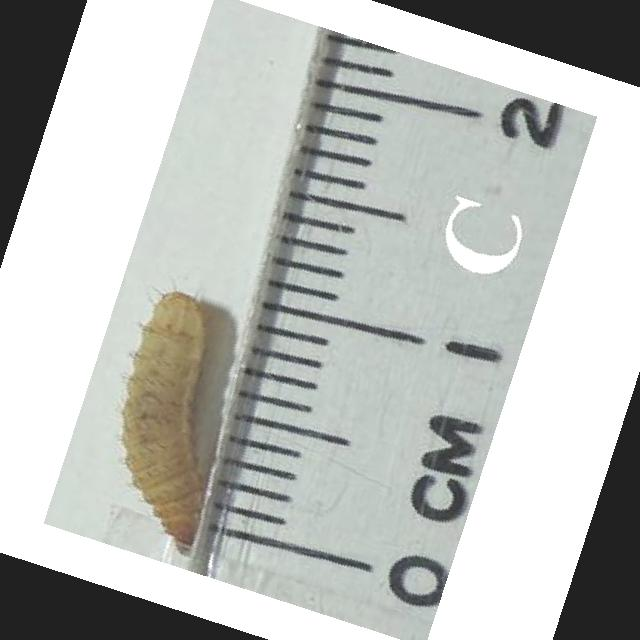Maggot: (123, 293, 219, 556)
